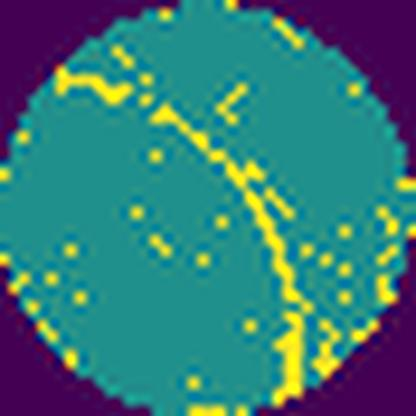Scratch: (147, 98, 319, 412), (53, 58, 142, 111)
